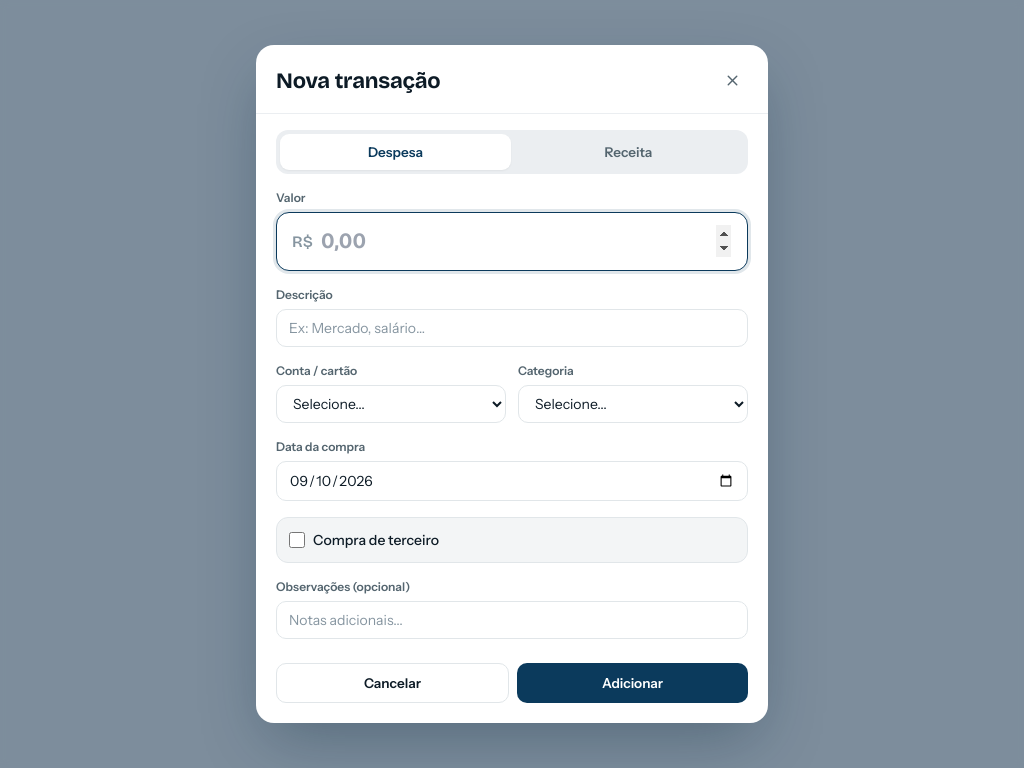
Test: TransactionFormModal › unchecks third party clears fields
Expected: the heading "Nova transação" is shown, [276,67,440,95]
Click the checkbox labelled "Compra de terceiro". click: (297, 540)
box: [289,532,305,548]
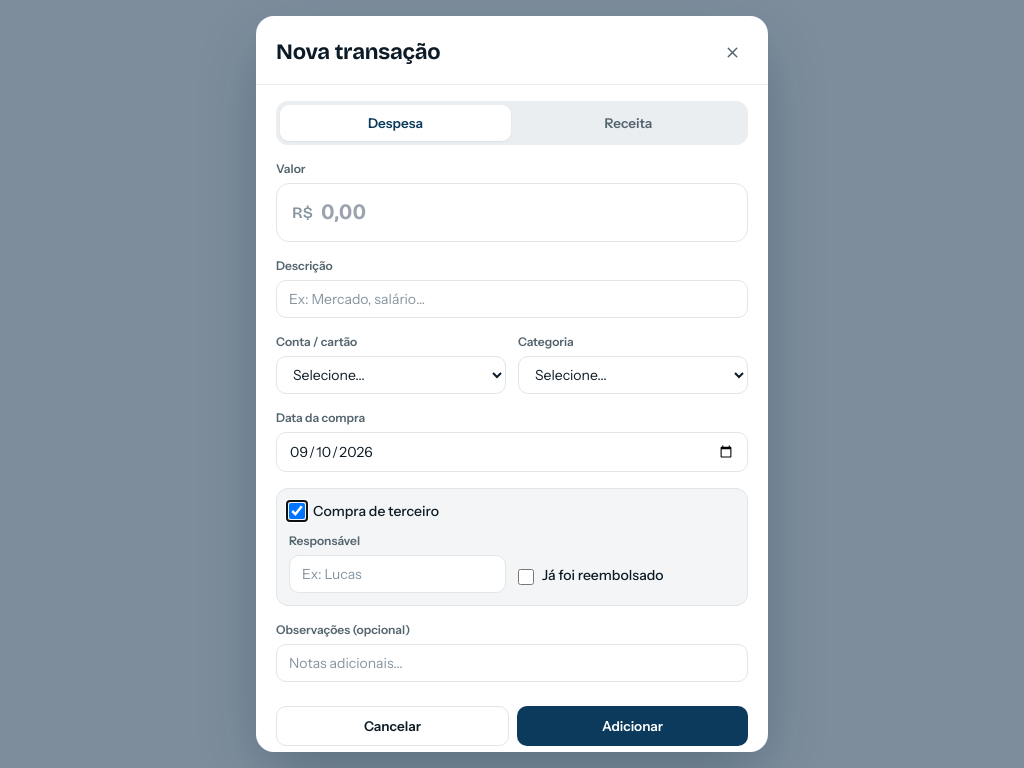
Type "X" into the field labelled "Responsável". click: (398, 574)
box: [289,555,506,593]
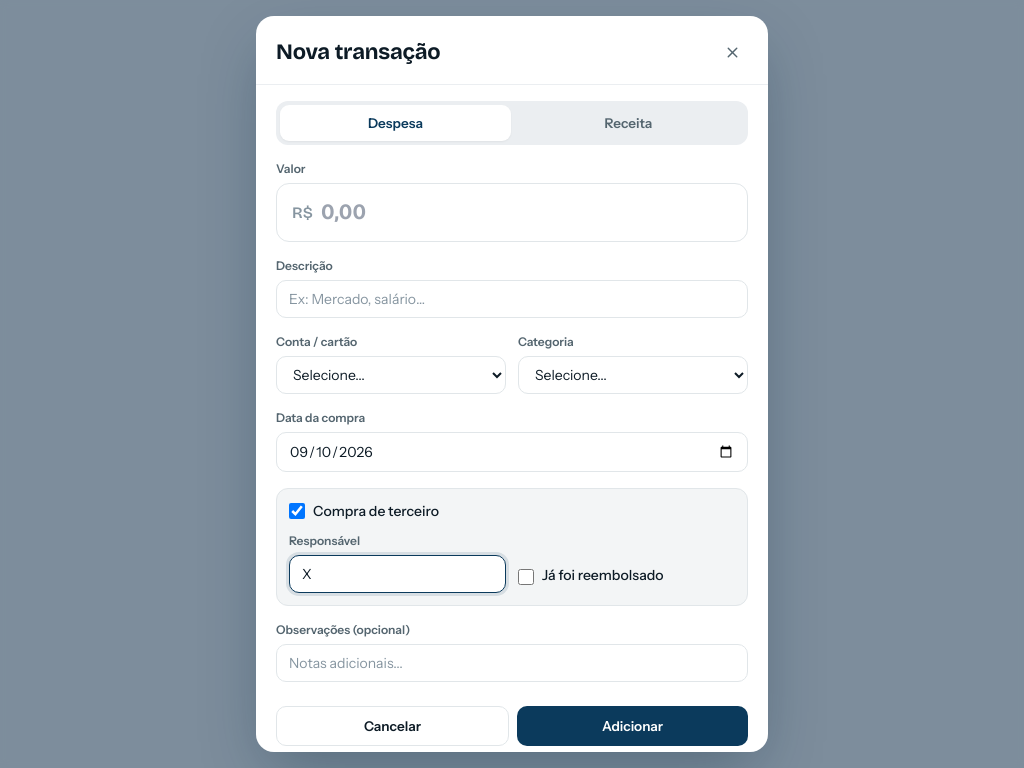
Click the checkbox labelled "Compra de terceiro". click: (297, 511)
box: [289,503,305,519]
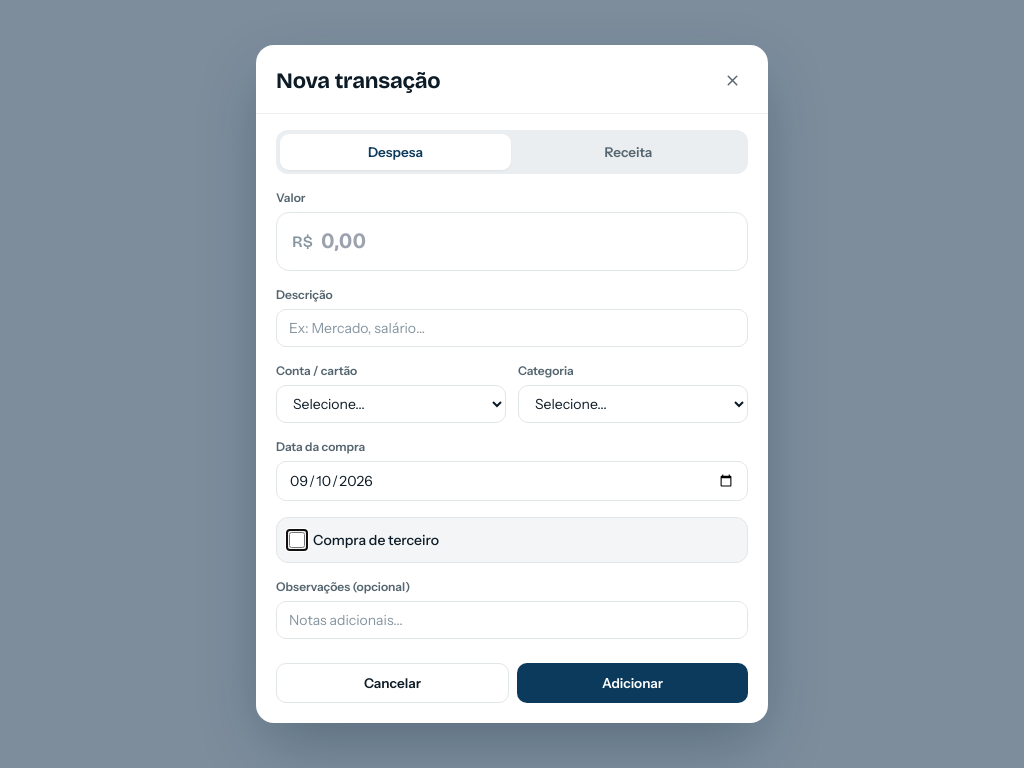
Now the label labelled "Responsável" is gone
